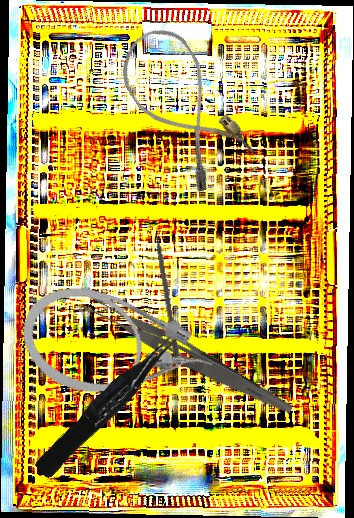Cannula: (10, 272, 223, 428), (106, 17, 260, 196)
Dressing Forceps: (79, 290, 299, 419)
Pusher: (152, 218, 181, 359)
Tissue Forceps: (27, 331, 189, 480)
